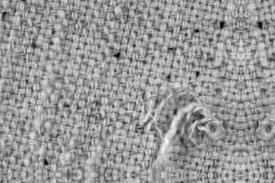snag: (157, 98, 223, 164)
